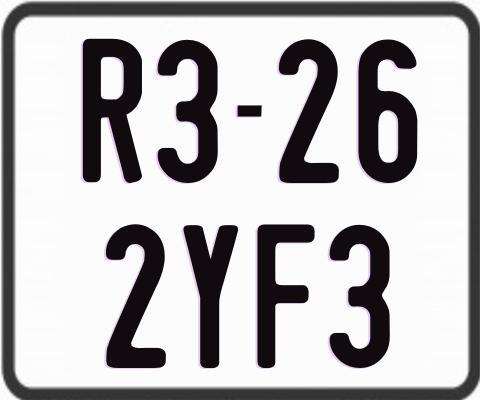2: (278, 39, 344, 183), (106, 222, 167, 371)
3: (330, 223, 392, 366), (155, 40, 215, 185)
6: (355, 37, 419, 183)
F: (257, 224, 318, 369)
R: (81, 39, 145, 189)
Y: (182, 223, 241, 367)
